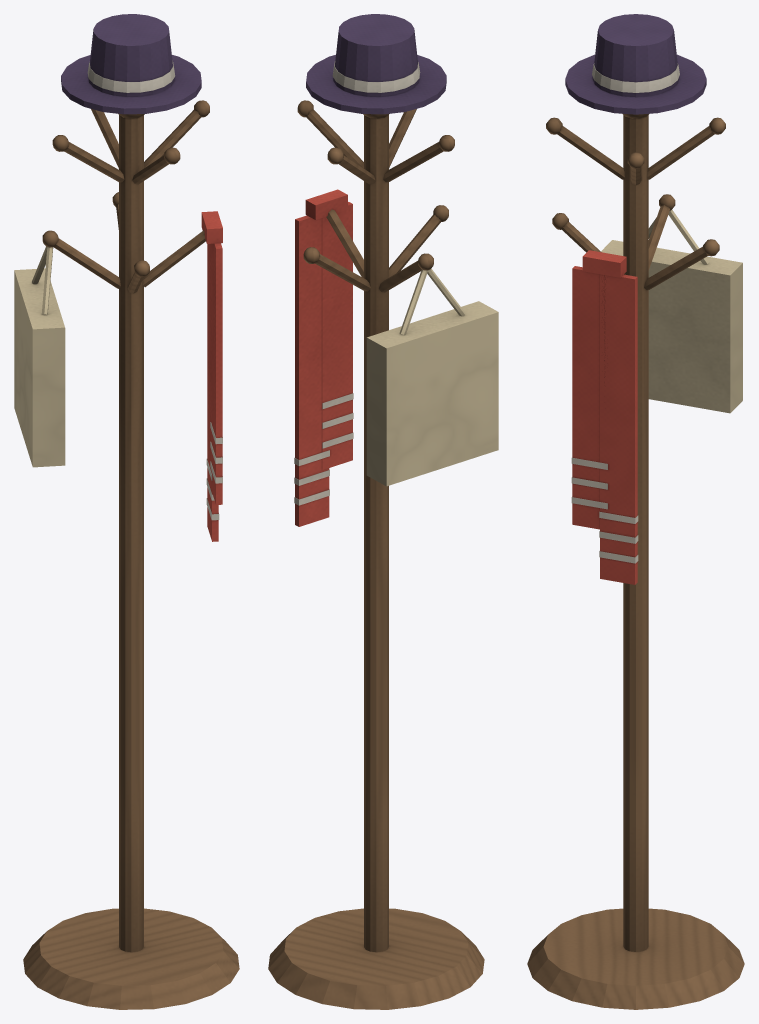
The model's file is coat_rack.glb.
3 views of the same model, side by side, from view 1: azimuth 30°, elevation 25°; view 2: azimuth 150°, elevation 25°; view 3: azimuth 270°, elevation 25° (orthographic).
Visible parts, largest first — view 1: coat_rack; view 2: coat_rack; view 3: coat_rack.
Part boxes in pixels (box(x1,y1,x2,y2)): coat_rack: box(14, 14, 239, 1009); coat_rack: box(268, 14, 498, 1009); coat_rack: box(527, 14, 744, 1009).
Bounding box in the file's own units: 0.4345 × 1.89 × 0.4.
Materials: 5 (5 with a texture image).
